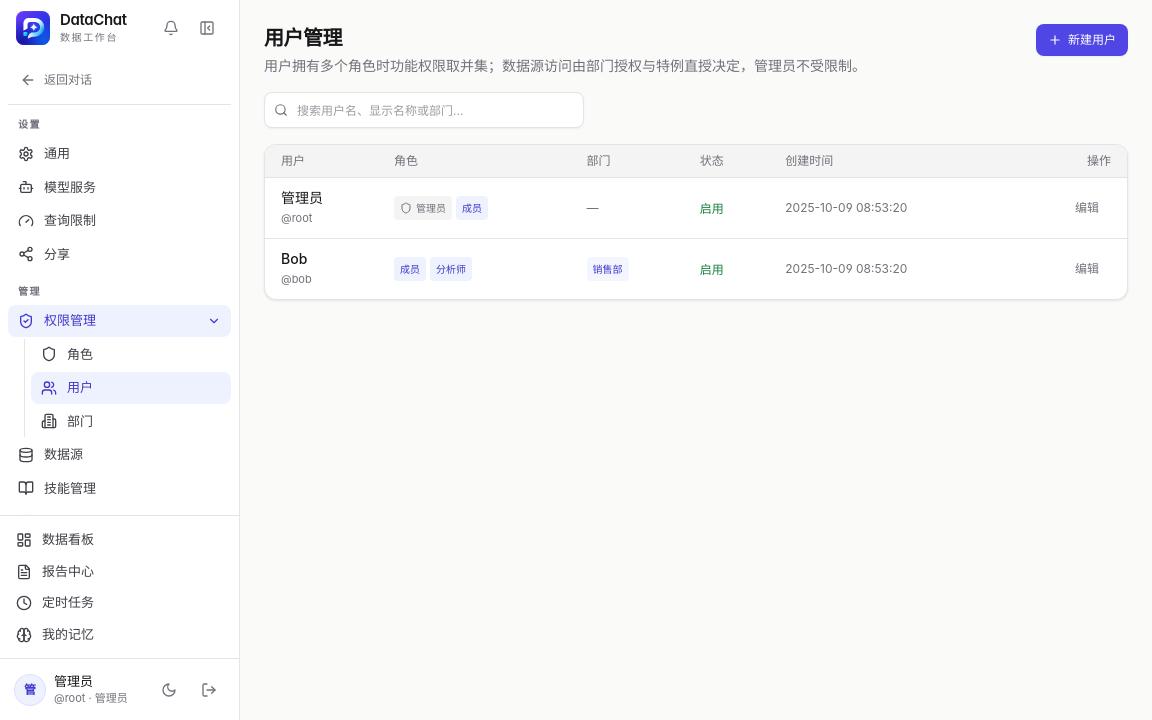
Test: UsersPage › creates a user with two roles and a display name
Later steps or results of the test are not shown.
Expected: the text "Bob" is shown, [281,250,307,267]
Click the button "新建用户": [1082, 40] box [1036,24,1128,56]
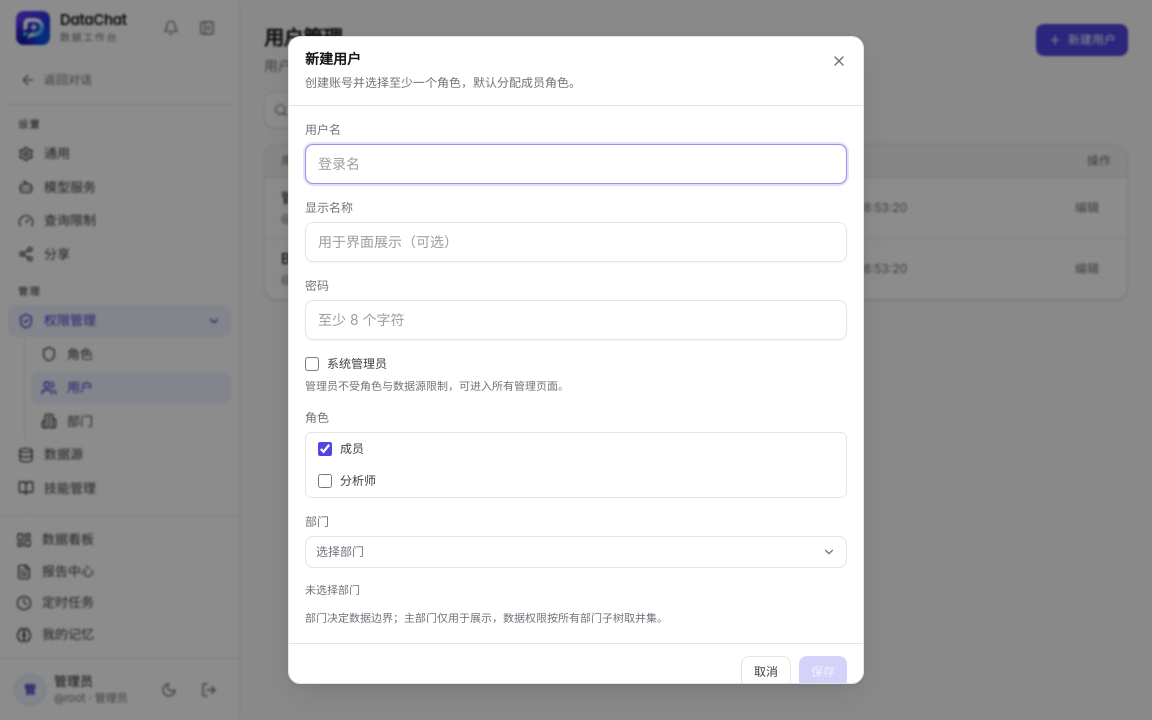
Expected: the checkbox labelled "成员" is checked, [318,442,332,456]
